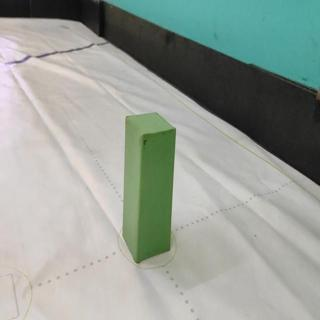greenbox: (121, 111, 178, 265)
